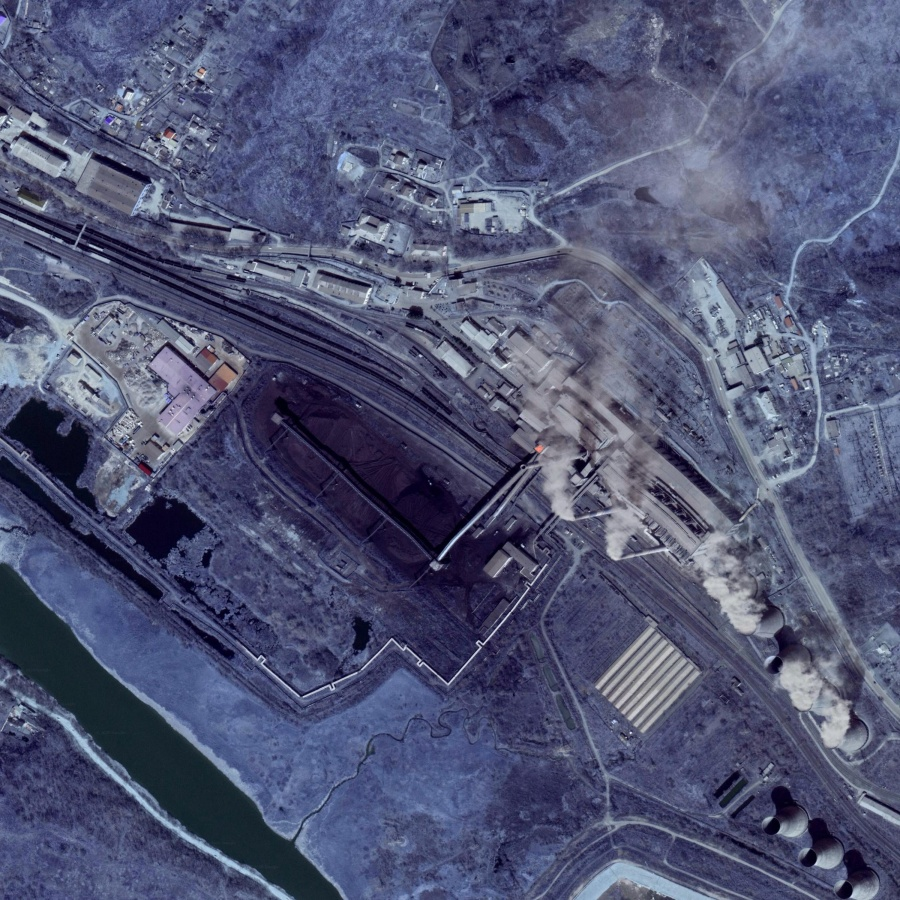PowerPlant: (247, 319, 688, 612)
